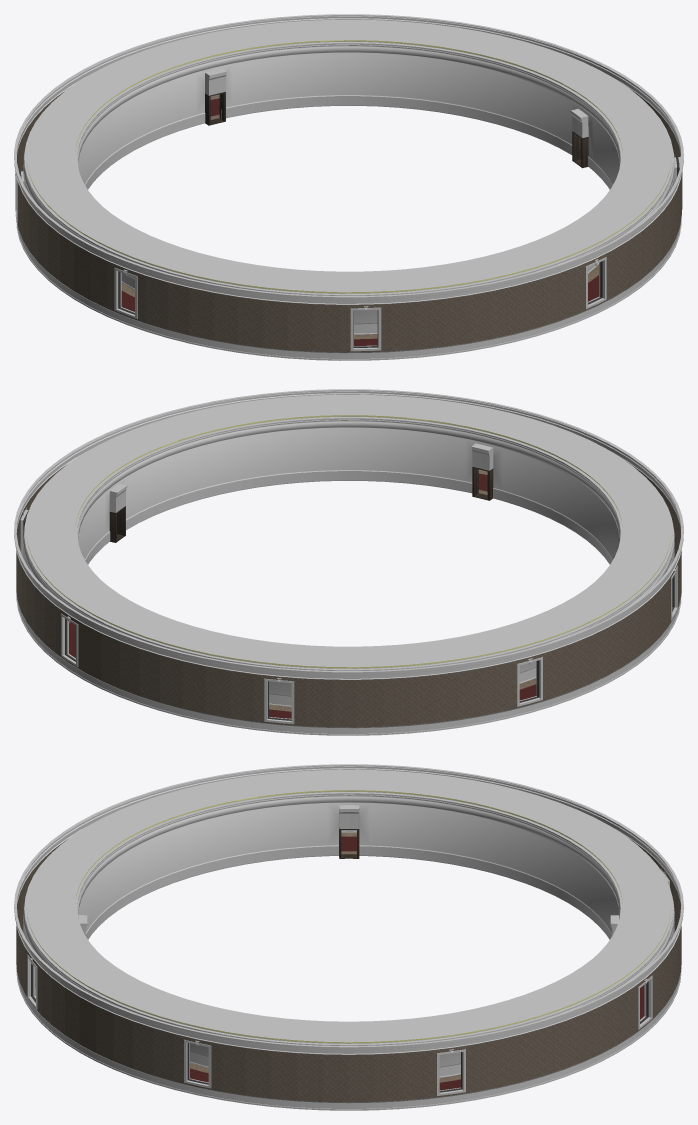
The model's file is Royal_Hall_Section_4.FBX.
The picture shows the model from 3 angles, top to bottom: view 1: azimuth 30°, elevation 25°; view 2: azimuth 150°, elevation 25°; view 3: azimuth 270°, elevation 25°; orthographic projection.
Parts seen in each view (by area): view 1: Royal_Hall_Section_4; view 2: Royal_Hall_Section_4; view 3: Royal_Hall_Section_4.
Part boxes in pixels (x1,y1,x2,y2): Royal_Hall_Section_4: [14, 14, 683, 360]; Royal_Hall_Section_4: [14, 389, 683, 735]; Royal_Hall_Section_4: [14, 764, 683, 1110].
Bounding box in the file's own units: 55.84 × 5.93 × 55.84.
